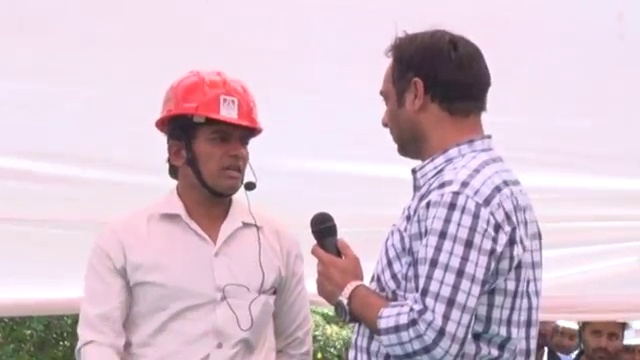helmet: (151, 74, 267, 139), (623, 318, 640, 348)
helmet_off: (381, 37, 496, 165), (578, 321, 626, 360), (550, 321, 581, 356)
helmet_on: (156, 76, 269, 204), (621, 318, 640, 360)
person: (308, 29, 541, 359), (60, 74, 323, 360)
